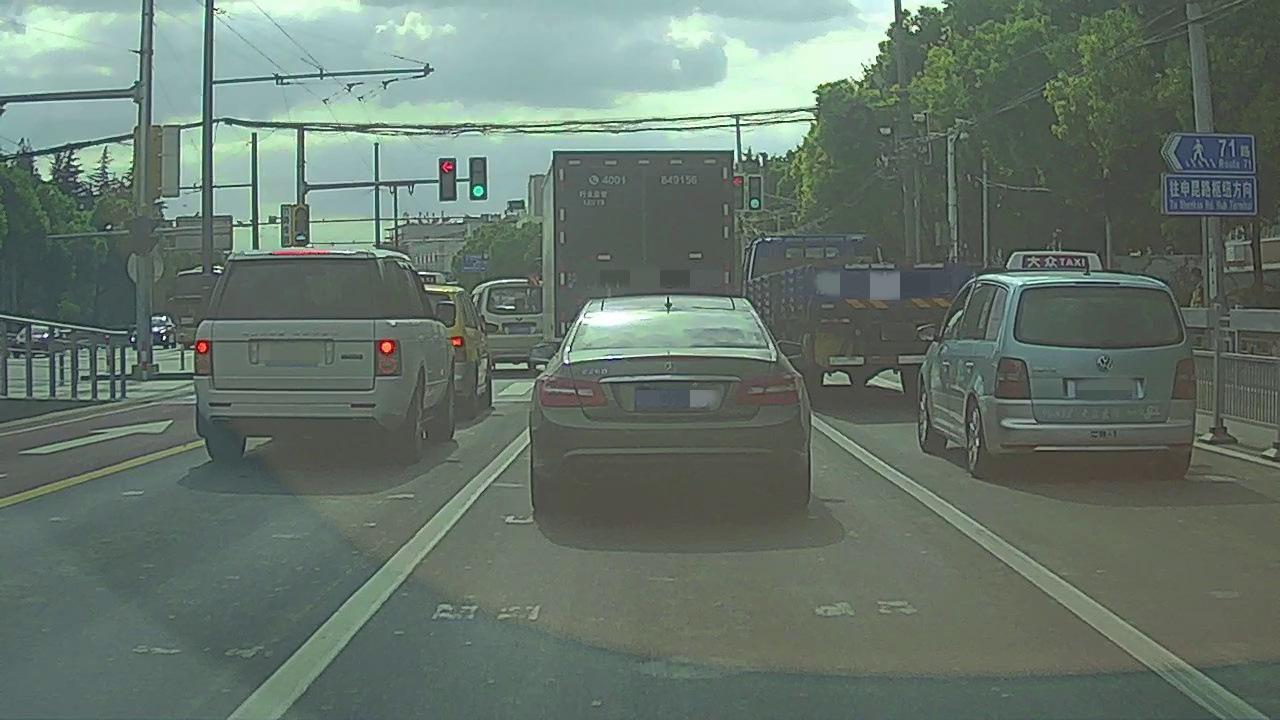traffic_light: (439, 159, 455, 201), (469, 159, 486, 198), (749, 175, 762, 211), (731, 178, 744, 208)
